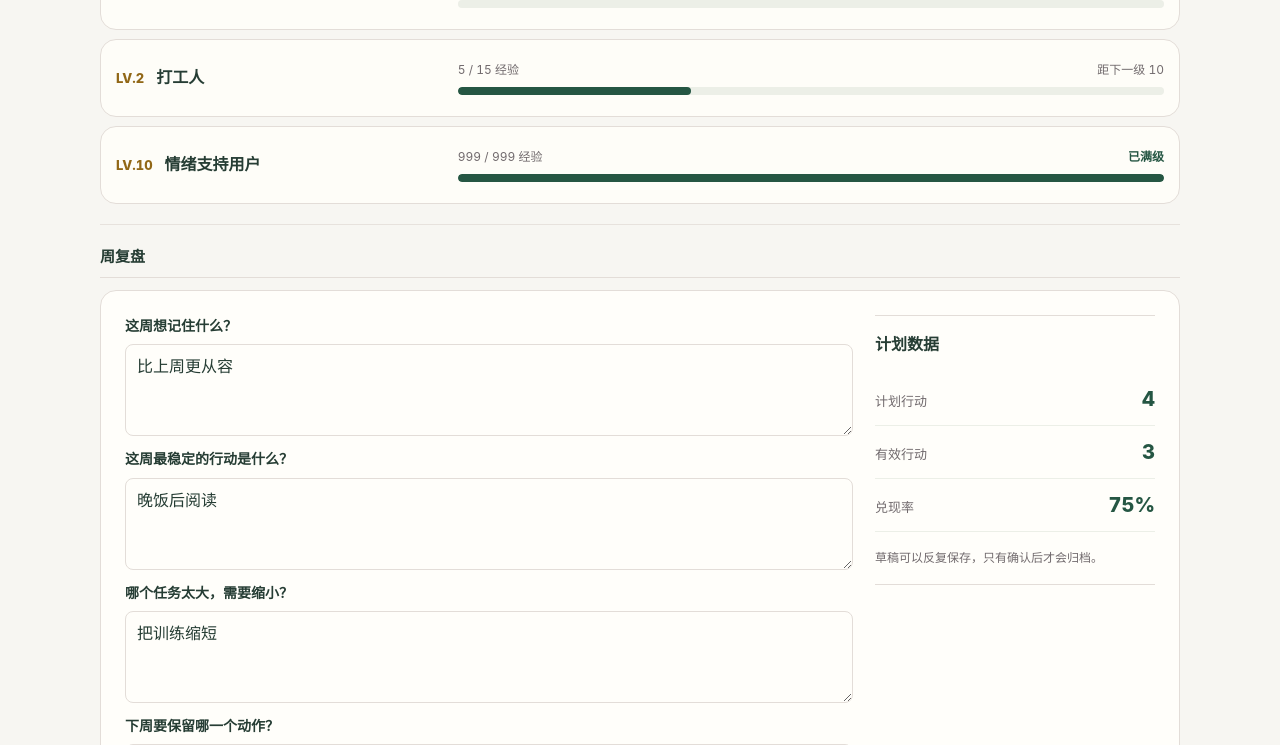
Test: Insights › loads, saves and explicitly confirms the current weekly review
(page scrolled)
Replace the text in the text box with id "reflection" with "本周找到了稳定节奏" at [489, 390], box [125, 344, 853, 436]
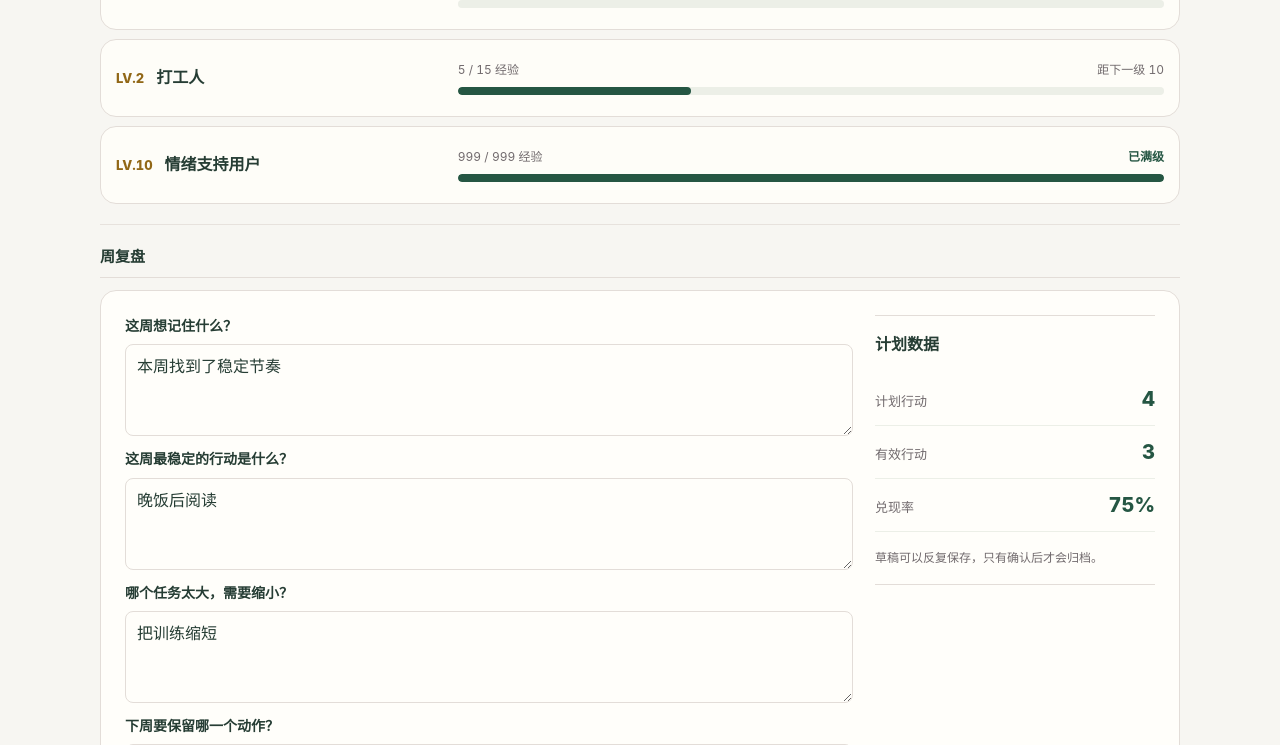
Replace the text in the text box with id "steady" with "早起阅读" at [489, 524], box [125, 478, 853, 570]
(page scrolled)
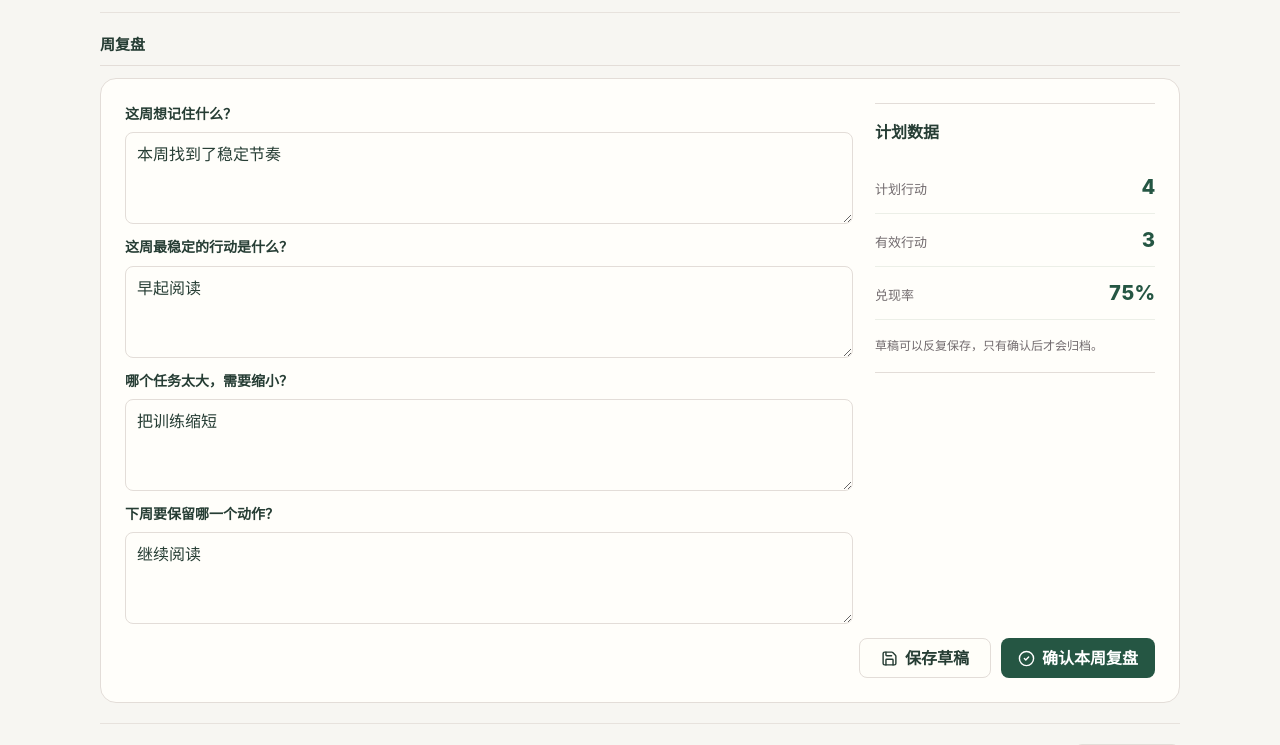
Submit the form
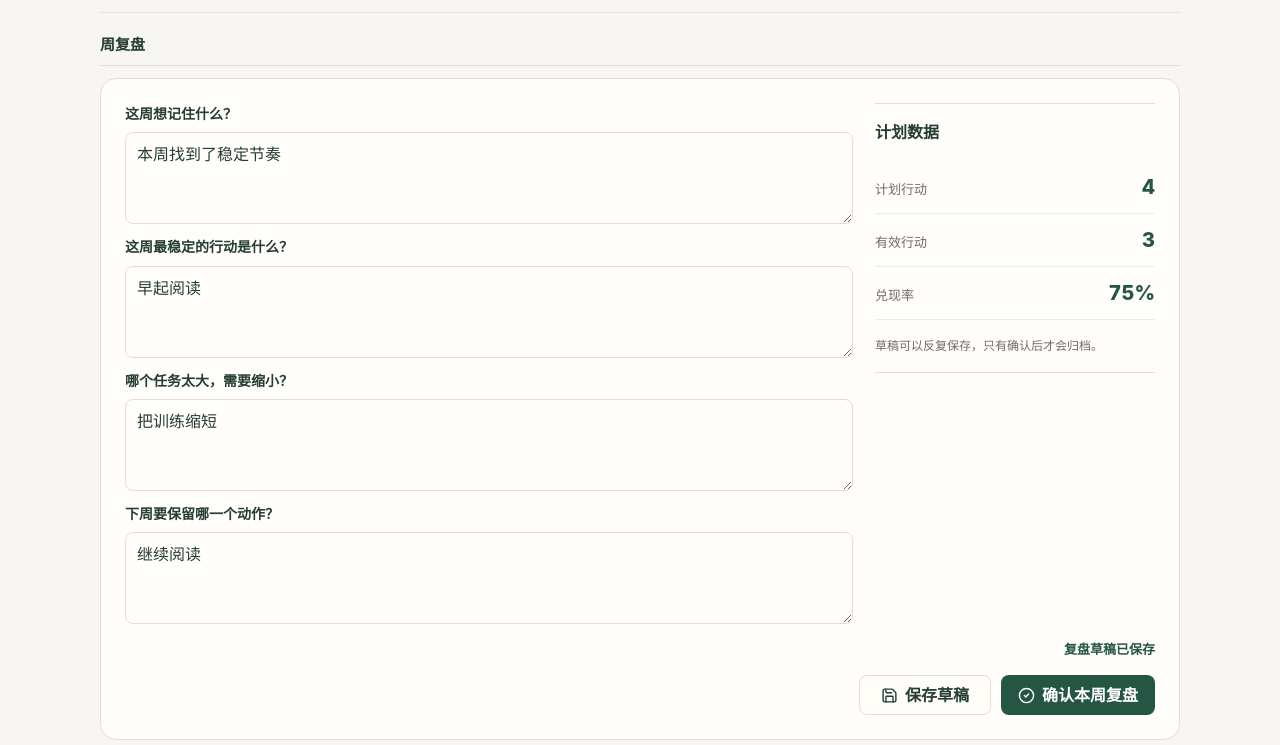
Expected: the text "复盘草稿已保存" is shown, [1064, 641, 1155, 657]
Click the button "确认本周复盘" at [1078, 695], box [1001, 675, 1155, 715]
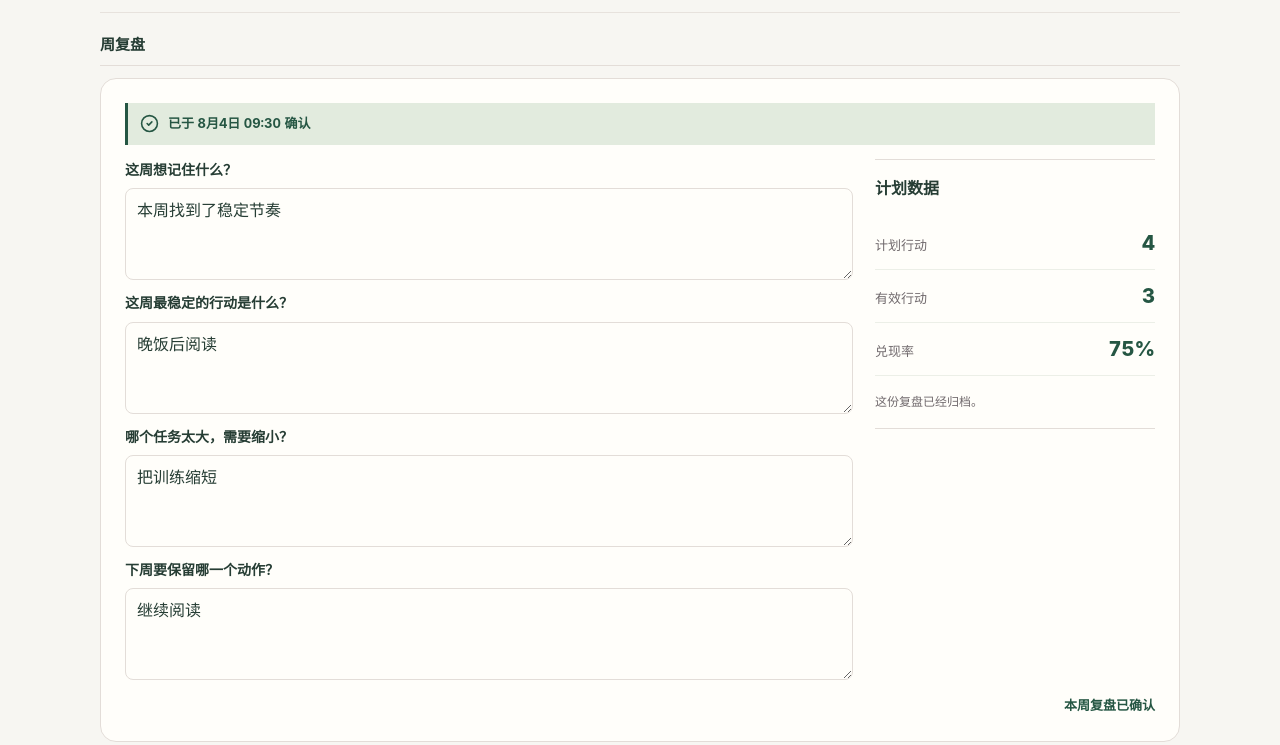
Expected: the text "本周复盘已确认" is shown, [1064, 697, 1155, 713]
